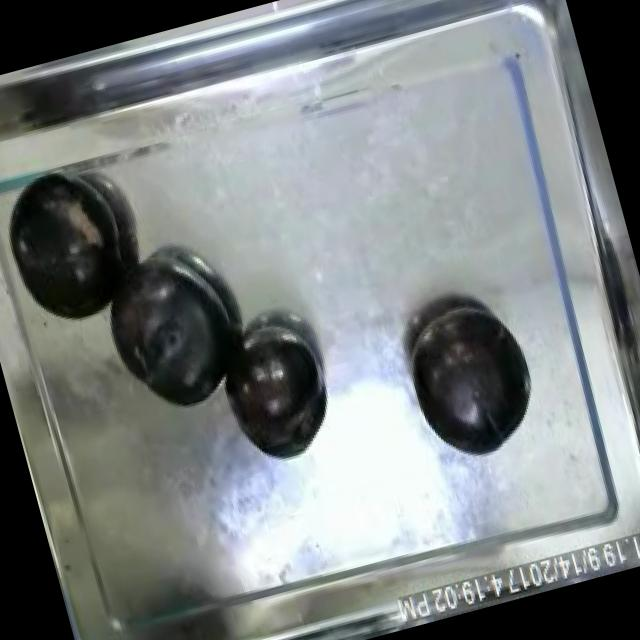Fruit: (97, 242, 257, 426), (393, 292, 551, 472), (0, 162, 138, 341), (210, 316, 346, 474)
